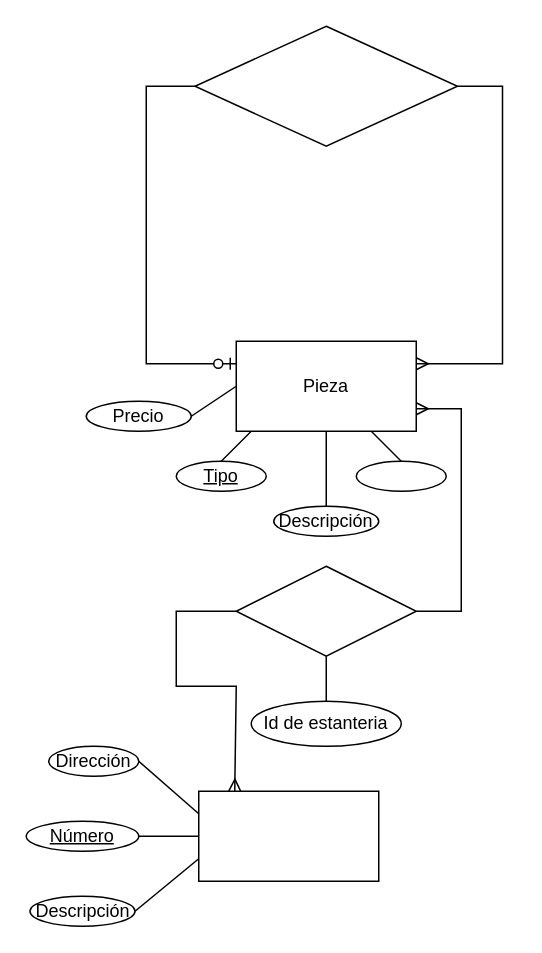
The diagram is 542 pixels wide and 953 high, and some of its shapes have lost their labels. Here are the shapes that lost their labels. From the top down, the centre of each, then its label:
At [326,85]: "SE COMPONE".
At [400,475]: "Modelo".
At [325,610]: "Se almacena".
At [288,835]: "Almacén".
